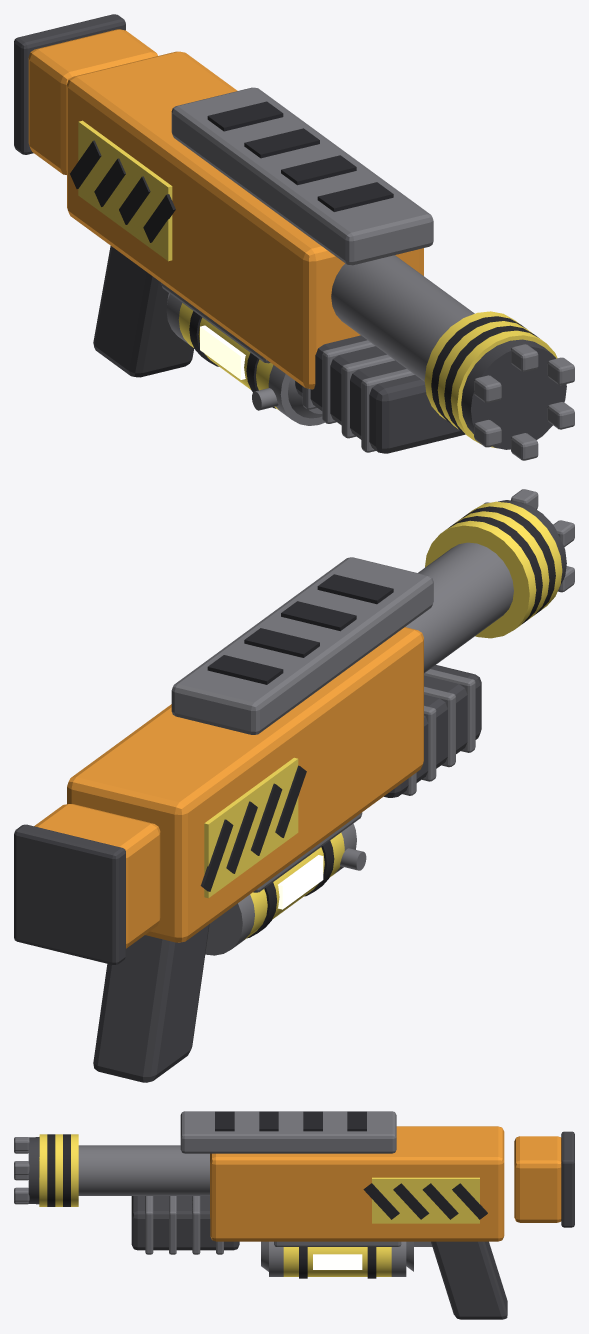
File: breacher.fbx
The picture shows the model from 3 angles, top to bottom: view 1: azimuth 30°, elevation 25°; view 2: azimuth 150°, elevation 25°; view 3: azimuth 270°, elevation 25°; orthographic projection. The views are drawn at different scales.
Parts seen in each view (by area): view 1: Receiver, Mag; view 2: Receiver, Mag; view 3: Receiver, Mag.
Part boxes in pixels (x1,y1,x2,y2): Receiver: (14, 14, 574, 460); Mag: (166, 293, 324, 425); Receiver: (14, 489, 574, 1082); Mag: (205, 823, 366, 955); Receiver: (14, 1111, 574, 1319); Mag: (261, 1241, 413, 1278).
Bounding box in the file's own units: 0.0946 × 0.2165 × 0.572.
